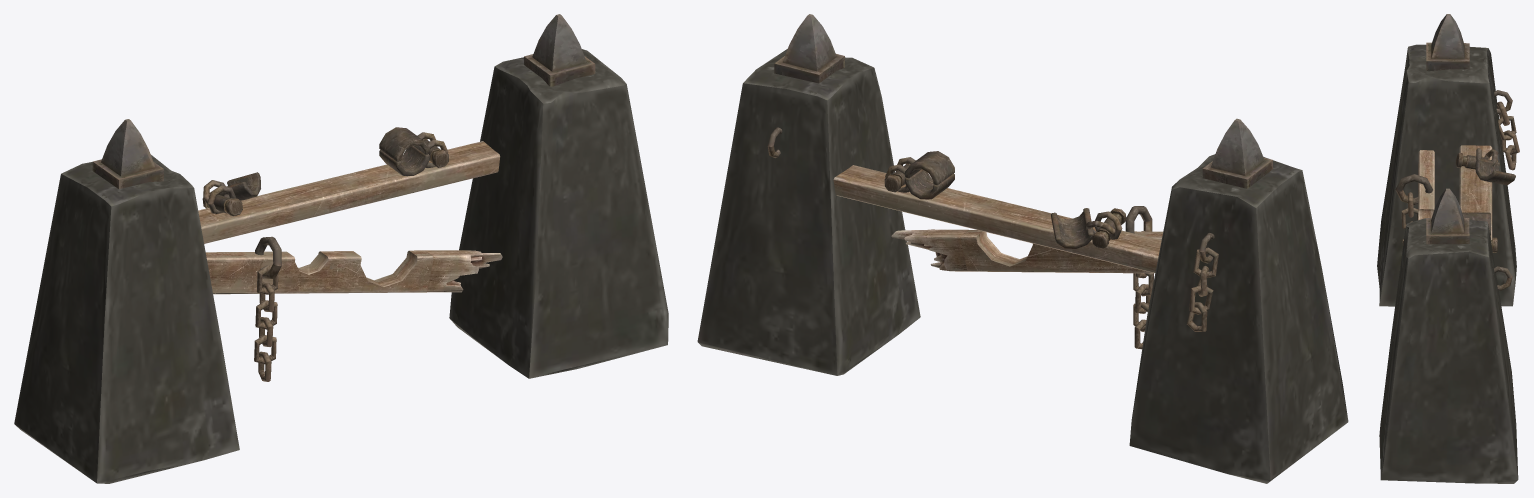
3 renders of one model, left to right at view 1: azimuth 30°, elevation 25°; view 2: azimuth 150°, elevation 25°; view 3: azimuth 270°, elevation 25°, orthographic. The views are drawn at different scales.
Parts seen in each view (by area): view 1: SM_HoldingBrace_02_LOD0; view 2: SM_HoldingBrace_02_LOD0; view 3: SM_HoldingBrace_02_LOD0.
Boxes of the visible parts, x1,y1,x2,y2 form: SM_HoldingBrace_02_LOD0: (14,14,668,483); SM_HoldingBrace_02_LOD0: (697,14,1348,483); SM_HoldingBrace_02_LOD0: (1377,14,1519,483).
Bounding box in the file's own units: 2.67 × 1.42 × 0.6911.
3 materials, 3 textured.
